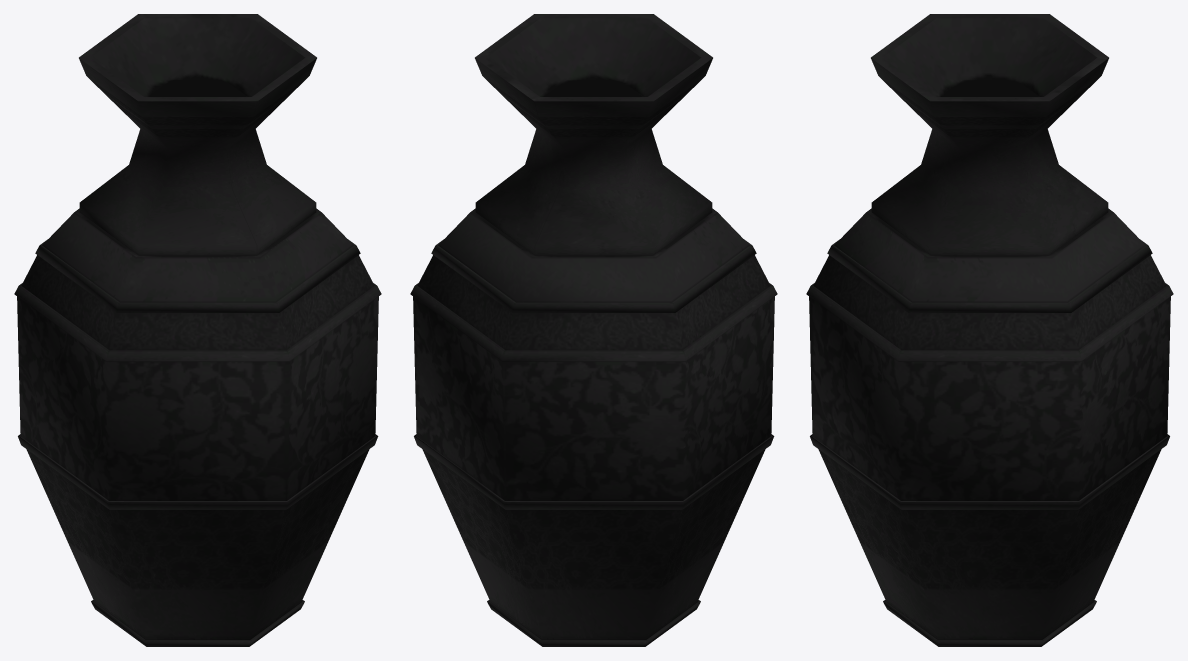
File: dub_vase_01_lod1.glb
The picture shows the model from 3 angles, left to right: view 1: azimuth 30°, elevation 25°; view 2: azimuth 150°, elevation 25°; view 3: azimuth 270°, elevation 25°; orthographic projection.
Parts seen in each view (by area): view 1: surf0; view 2: surf0; view 3: surf0.
Boxes of the visible parts, x1,y1,x2,y2 form: surf0: (14,14,381,646); surf0: (410,14,777,646); surf0: (806,14,1173,646).
Size of the model in its own units: 10.77 by 20.74 by 12.43.
